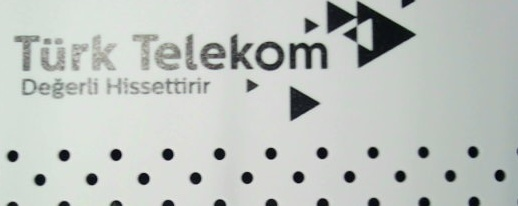AQ_TURKTelekom: (6, 4, 417, 122)
